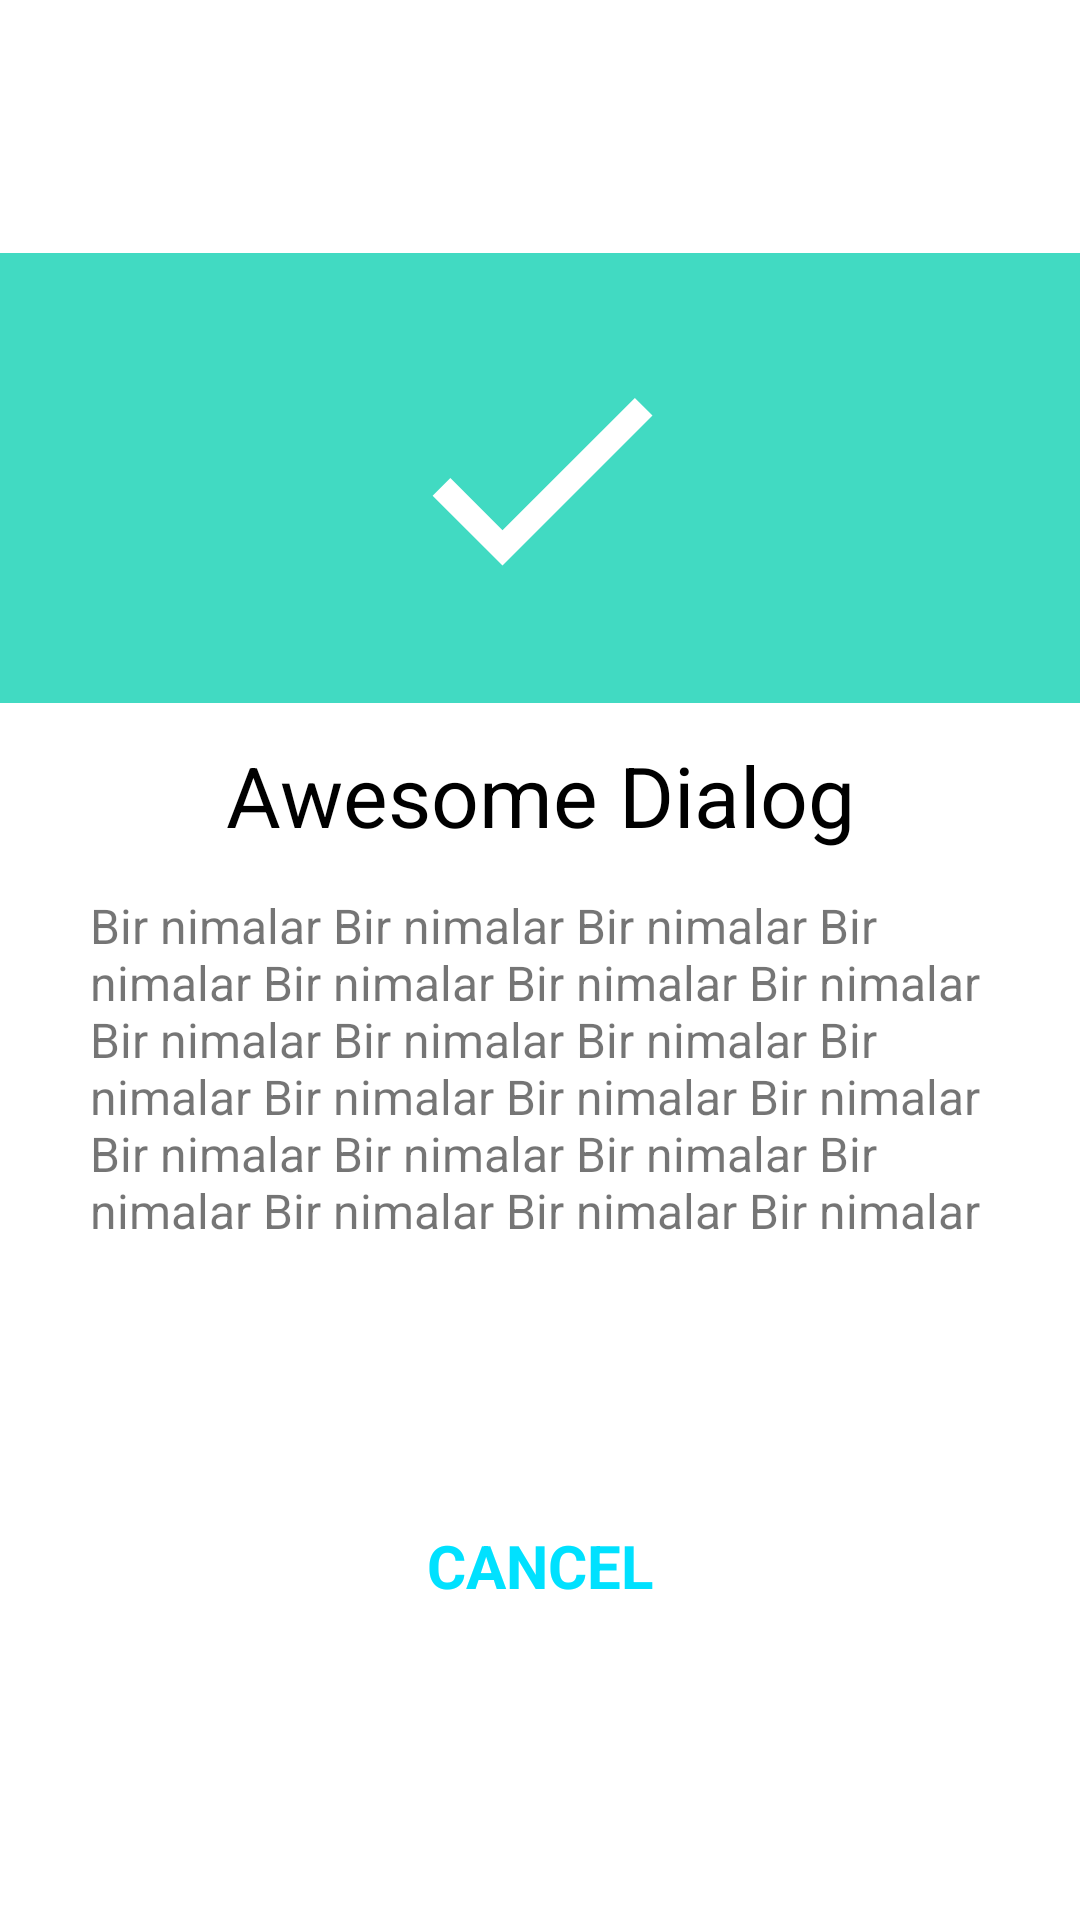

Locate icon controls on the screen. Image size 1080x1920, boxes as {"left": x1, "top": y1, "right": x2, "bottom": y2}.
check: {"left": 432, "top": 398, "right": 653, "bottom": 566}
